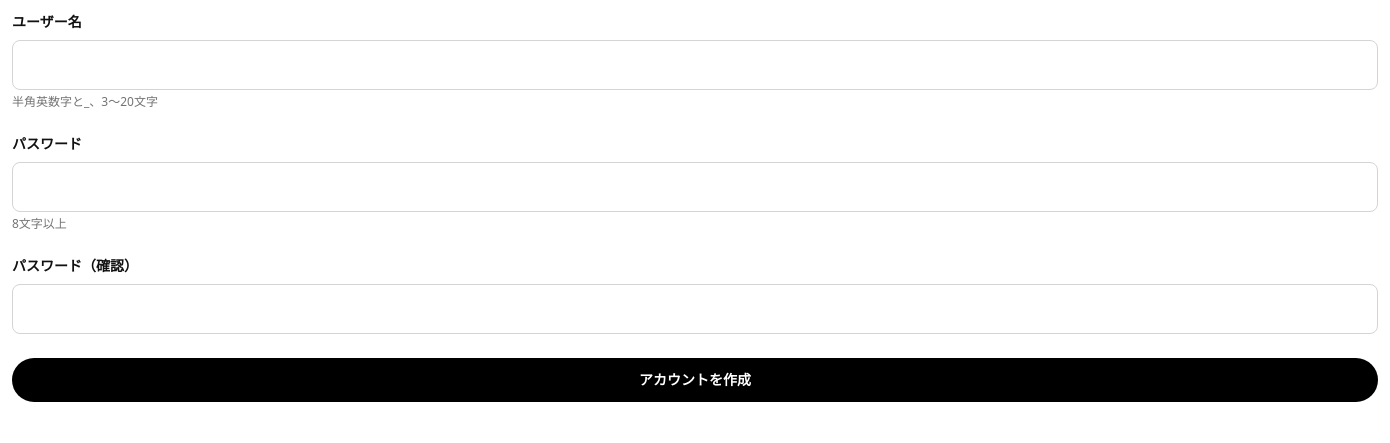
Test: shows Laravel's 422 errors under their fields
Type "takumi" into the field labelled "ユーザー名".
click(695, 65); type("takumi")  # box 12,40 -> 1378,90
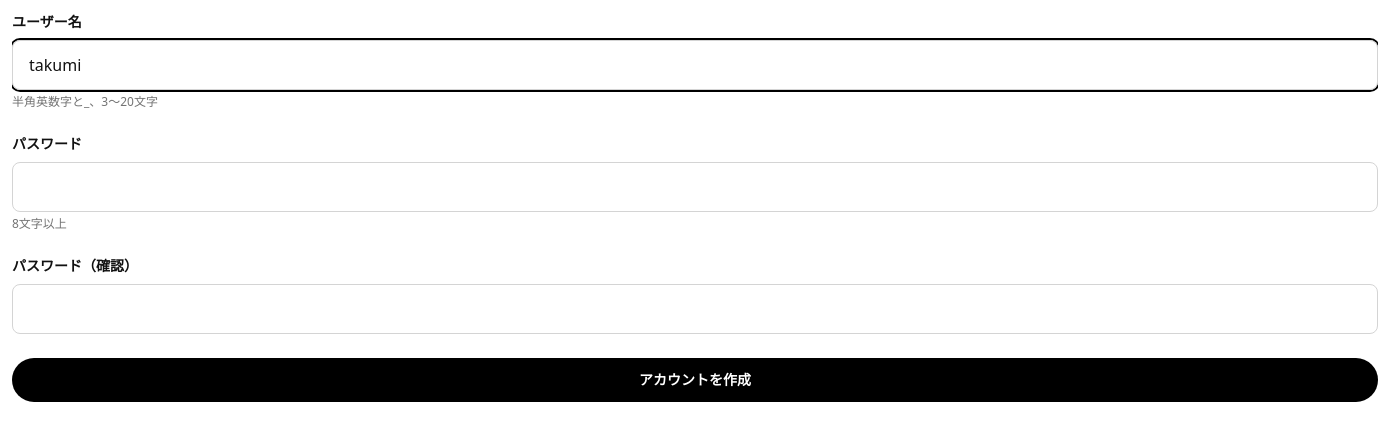
Type "password123" into the password field labelled "パスワード".
click(695, 187); type("password123")  # box 12,162 -> 1378,212
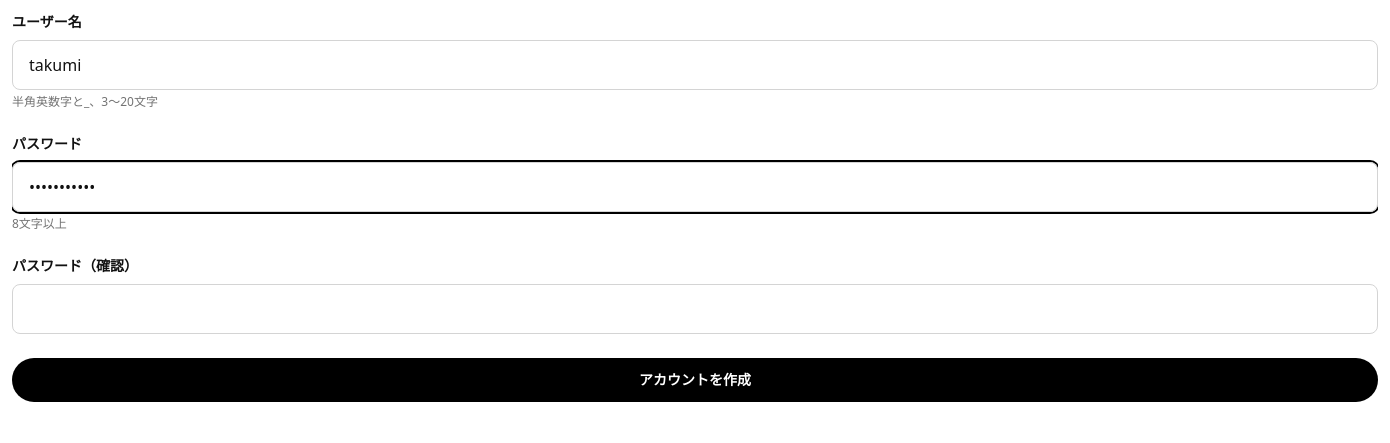
Type "password123" into the password field labelled "パスワード（確認）".
click(695, 309); type("password123")  # box 12,284 -> 1378,334
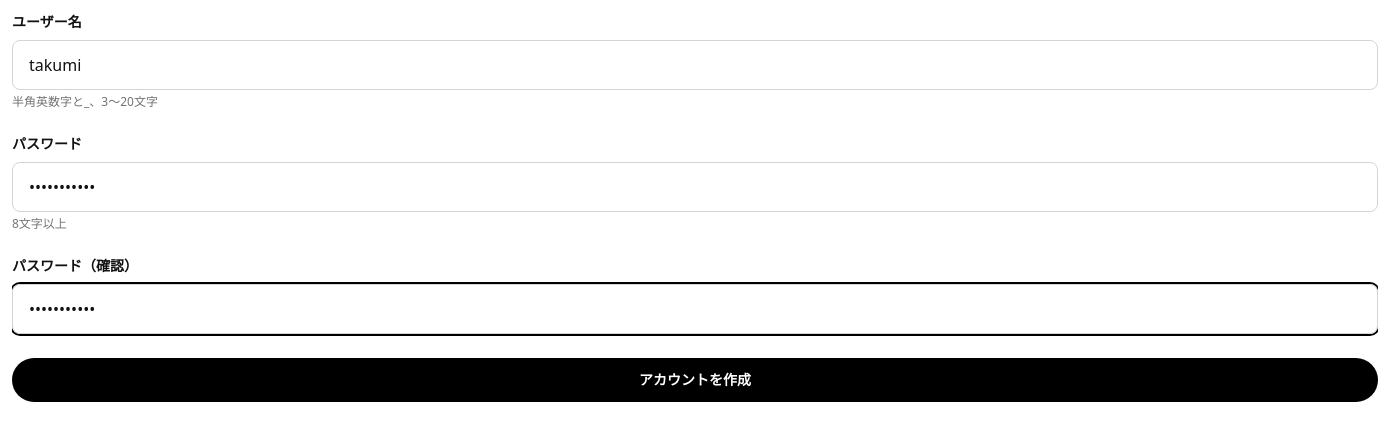
Click the button "アカウントを作成".
click(695, 380)  # box 12,358 -> 1378,402
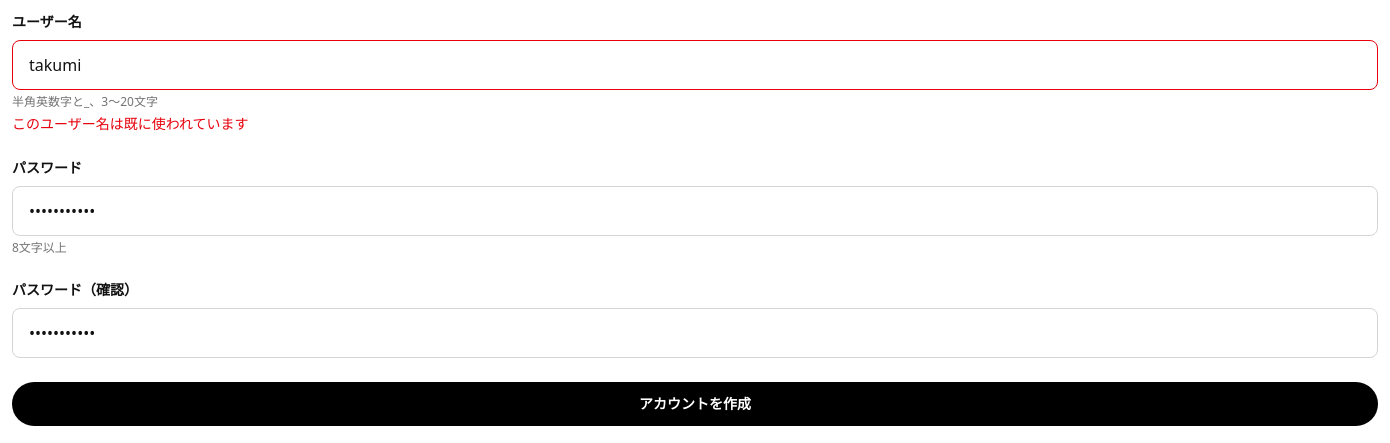
Now the text "このユーザー名は既に使われています" is shown, box 12,114 -> 249,133
